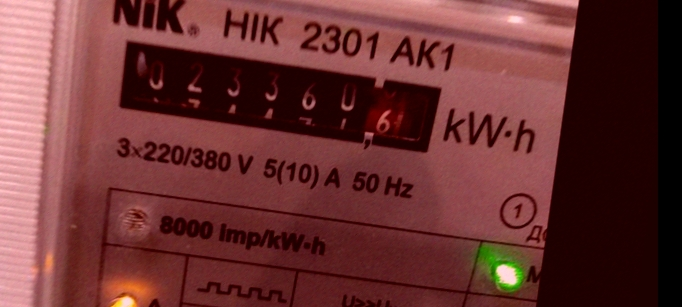0: (337, 77, 363, 115), (145, 55, 171, 92)
2: (185, 58, 210, 96)
3: (223, 64, 248, 101), (262, 68, 285, 104)
6: (298, 76, 323, 113), (374, 102, 396, 137)
screen: (103, 27, 464, 173)
